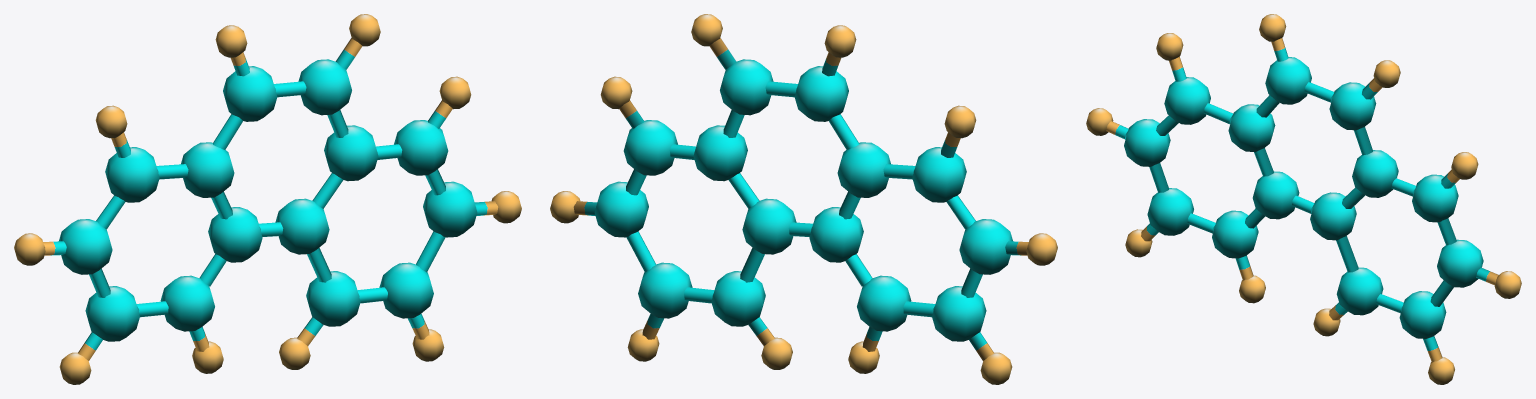
File: Phenanthrene.dae
3 renders of one model, left to right at view 1: azimuth 30°, elevation 25°; view 2: azimuth 150°, elevation 25°; view 3: azimuth 330°, elevation 25°, orthographic. The views are drawn at different scales.
Visible parts, largest first — view 1: polySurface259; view 2: polySurface259; view 3: polySurface259.
Boxes of the visible parts, <box> form: polySurface259: <box>14,14,521,384</box>; polySurface259: <box>550,14,1057,384</box>; polySurface259: <box>1086,14,1521,384</box>.
Size of the model in its own units: 7.21 by 5.21 by 0.6994.
1 material, 1 textured.
